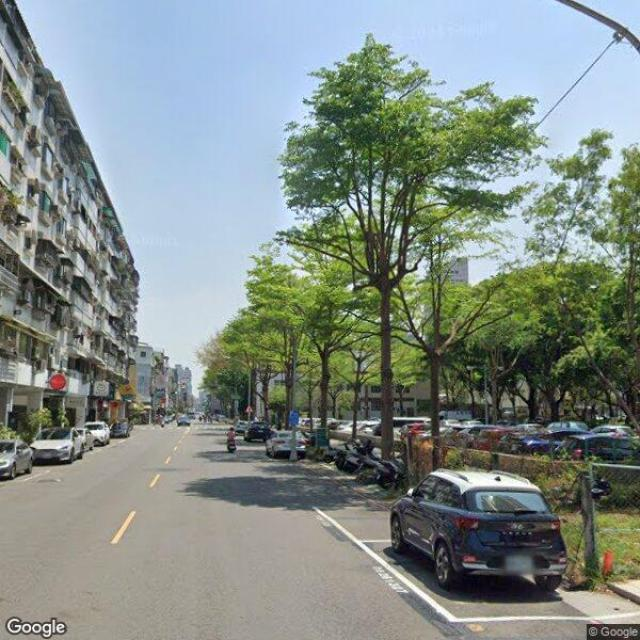Legalparking: (391, 469, 565, 590), (0, 423, 109, 477), (328, 441, 406, 487), (524, 431, 635, 459), (266, 430, 289, 456)
